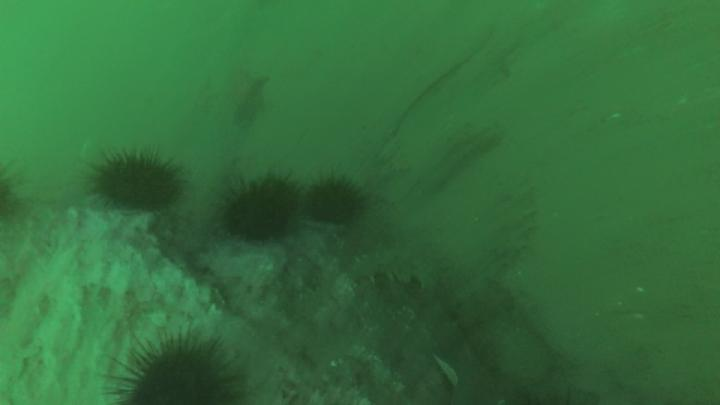echinus: (96, 324, 250, 405), (88, 146, 192, 214), (209, 171, 303, 243), (297, 166, 370, 232)
